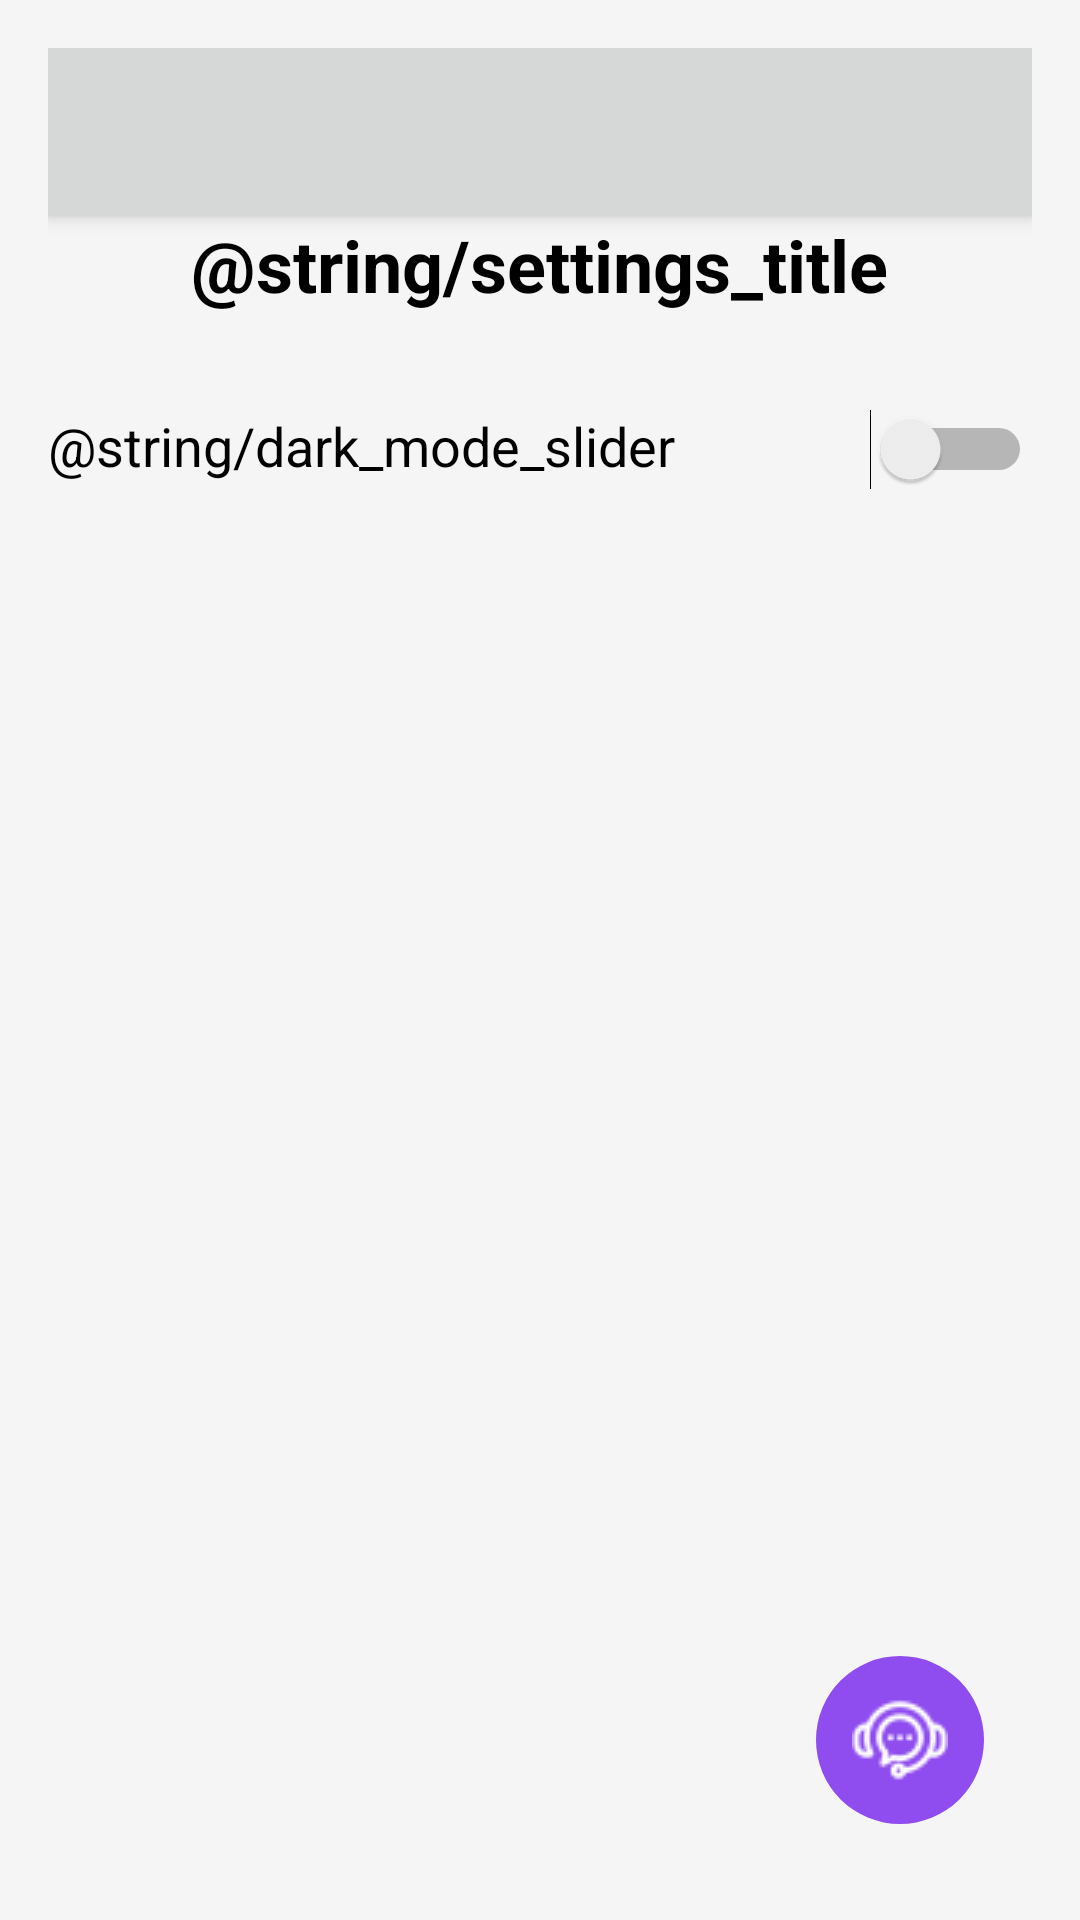

Icons on this 1080w x 1920h Android screen, each with its box as (x1, y1, x2, y2):
support: (816, 1656, 984, 1824)
